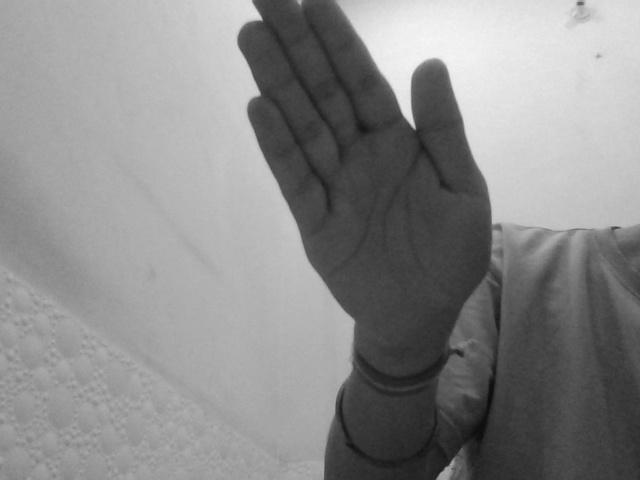Hello: (233, 1, 496, 345)
